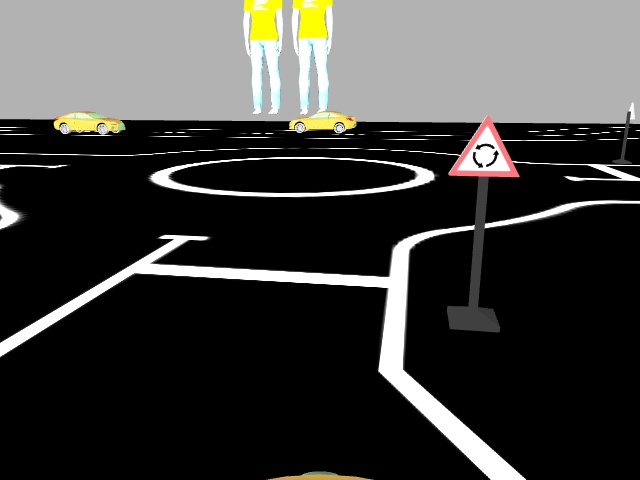Roundabout: (447, 114, 521, 178)
